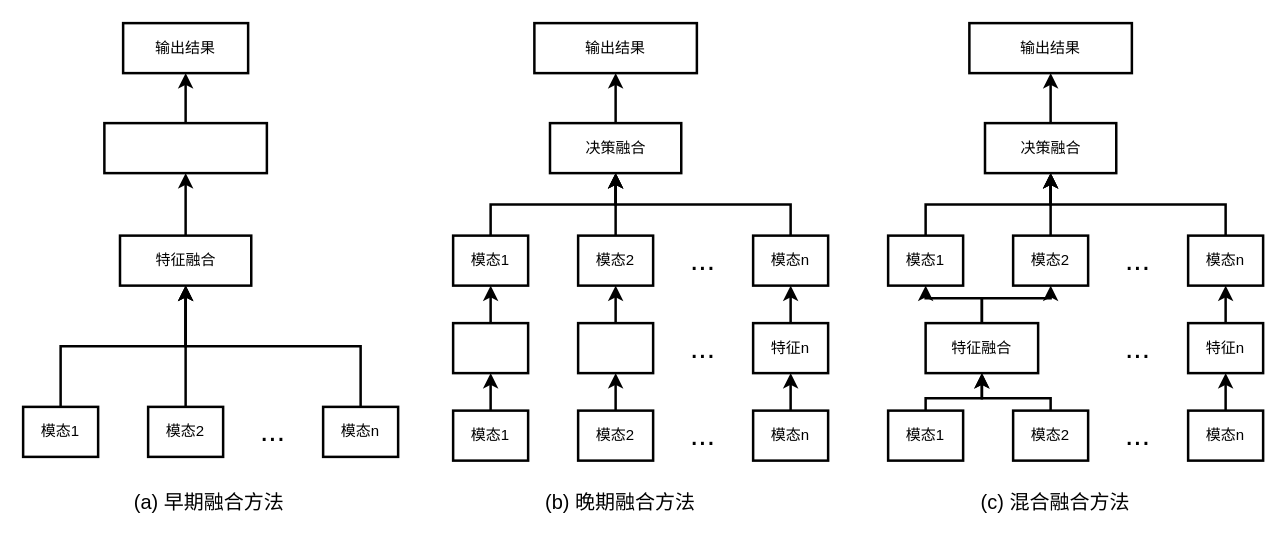
This 1285x541 diagram has some shape labels left out. Each missing label, with the centre of its shape:
模型（分类/回归）: point 185,147
特征1: point 490,347
特征2: point 615,347
